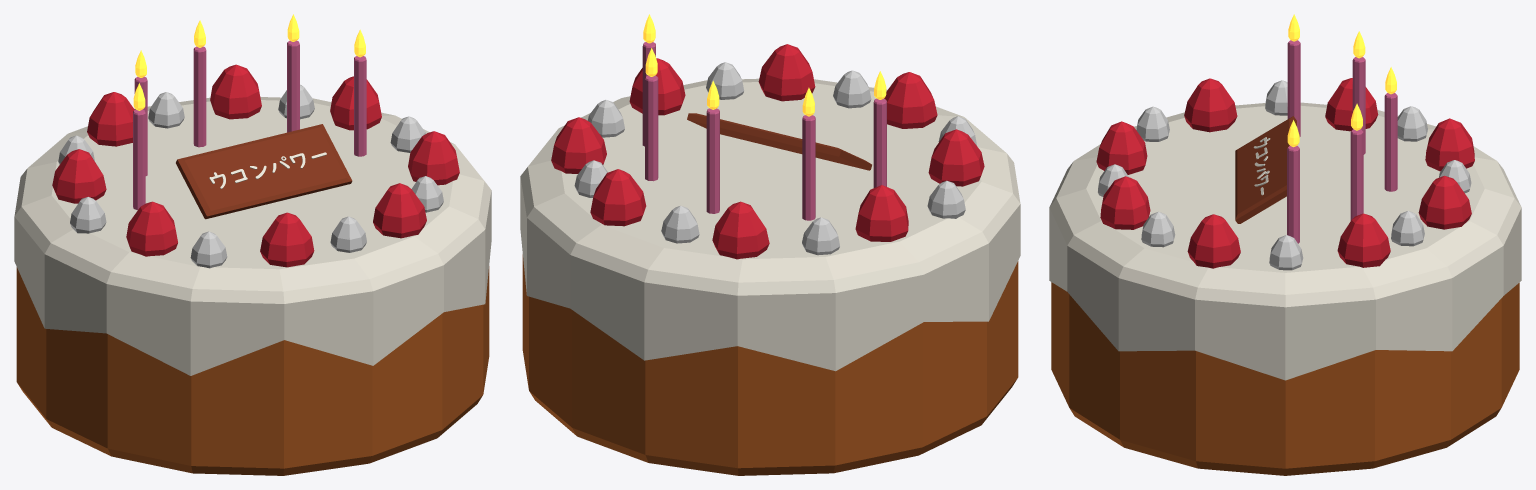
Rendered from happybirthday.glb.
3 views of the same model, side by side, from view 1: azimuth 30°, elevation 25°; view 2: azimuth 150°, elevation 25°; view 3: azimuth 270°, elevation 25° (orthographic). The views are drawn at different scales.
Parts seen in each view (by area): view 1: cake; view 2: cake; view 3: cake.
Boxes of the visible parts, bbox=[...] form: cake: bbox=[14, 14, 491, 475]; cake: bbox=[520, 14, 1020, 475]; cake: bbox=[1049, 14, 1521, 475].
Bounding box in the file's own units: 2.6 × 1.93 × 2.6.
